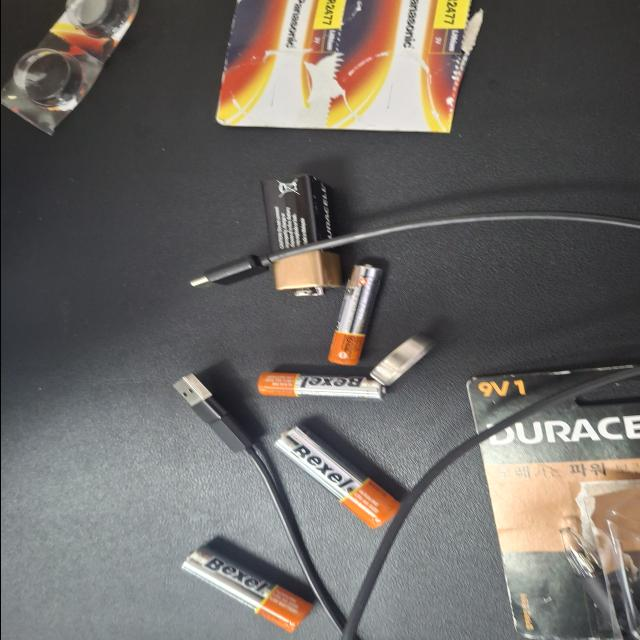9V: (245, 193, 409, 254)
AA: (0, 204, 76, 299)
AAA: (152, 245, 289, 287), (108, 192, 144, 292)
COIN: (125, 275, 193, 326)
